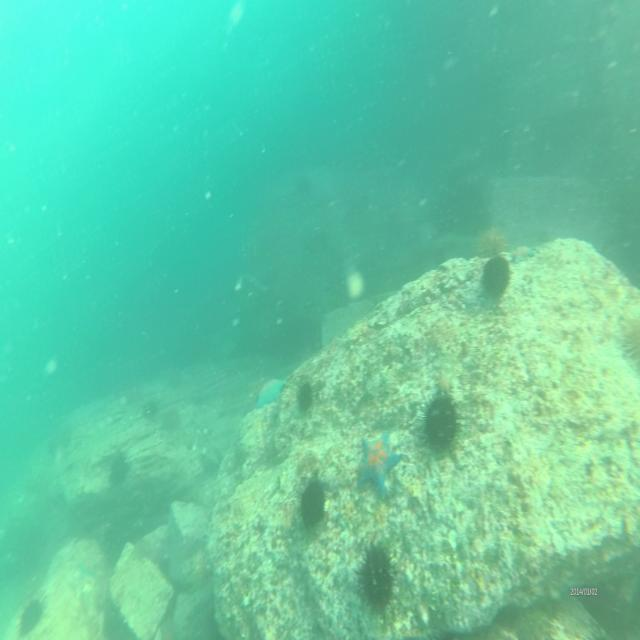echinus: (357, 544, 396, 603), (425, 390, 459, 448), (482, 255, 514, 298), (298, 483, 326, 531), (622, 317, 640, 370), (14, 600, 44, 631), (292, 380, 314, 415), (106, 452, 126, 488)
starfish: (354, 433, 401, 496), (254, 373, 284, 410)
